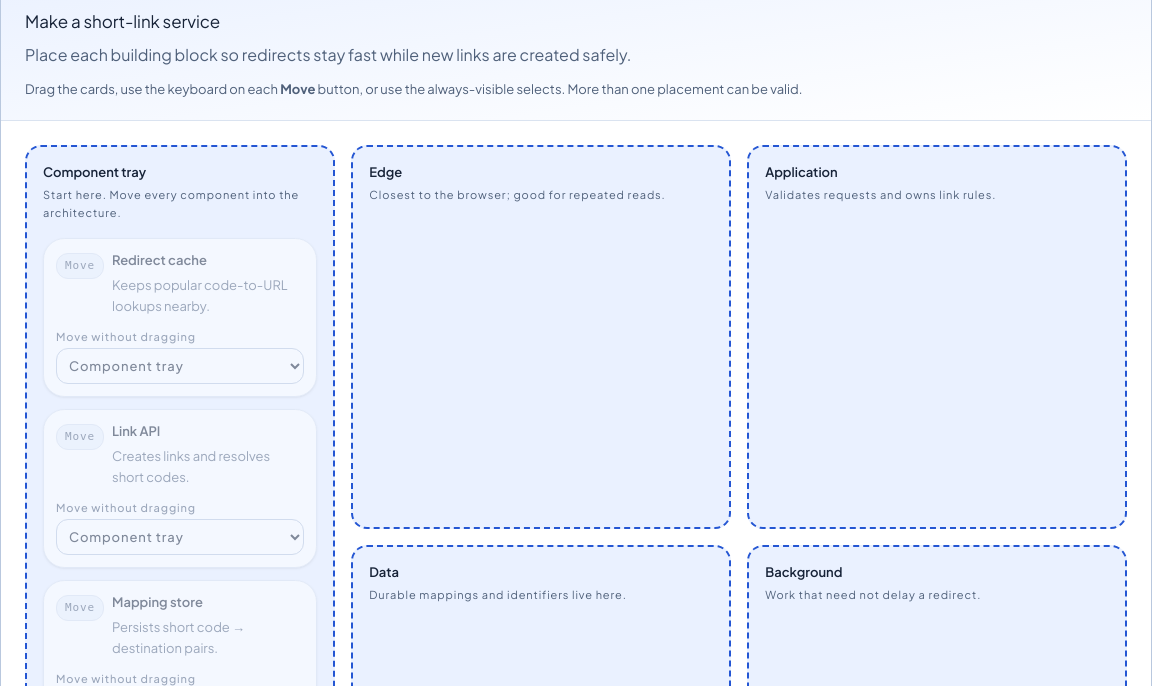
Scenario: ArchitectureLab › can be completed without dragging and accepts an alternate valid placement
Select "Application" in the dropdown named "move redirect cache" at {"x": 180, "y": 366}, box x1=56 y1=348 x2=304 y2=384
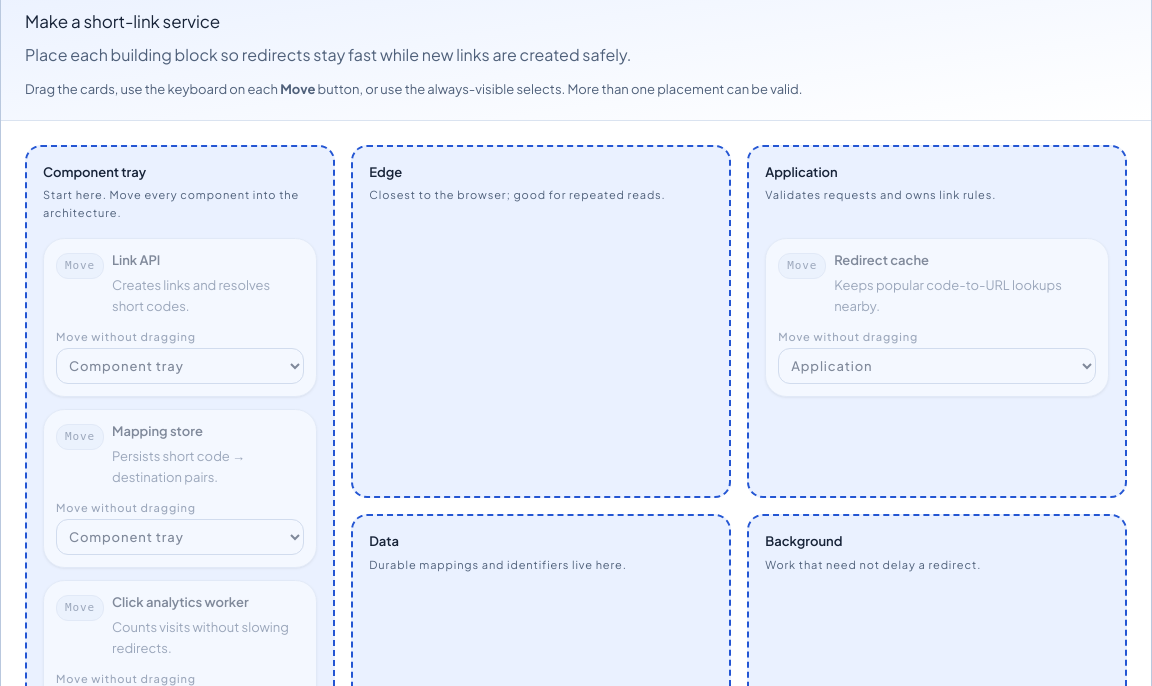
Select "Application" in the dropdown named "move link api" at {"x": 180, "y": 366}, box x1=56 y1=348 x2=304 y2=384
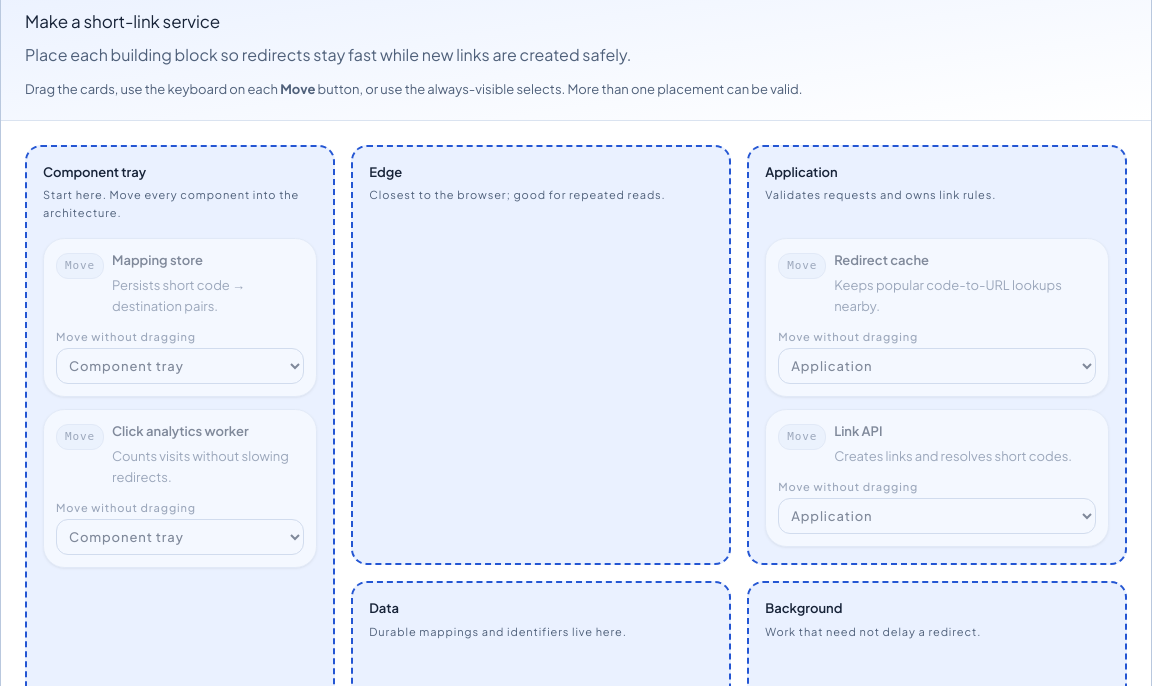
Select "Data" in the dropdown named "move mapping store" at {"x": 180, "y": 366}, box x1=56 y1=348 x2=304 y2=384
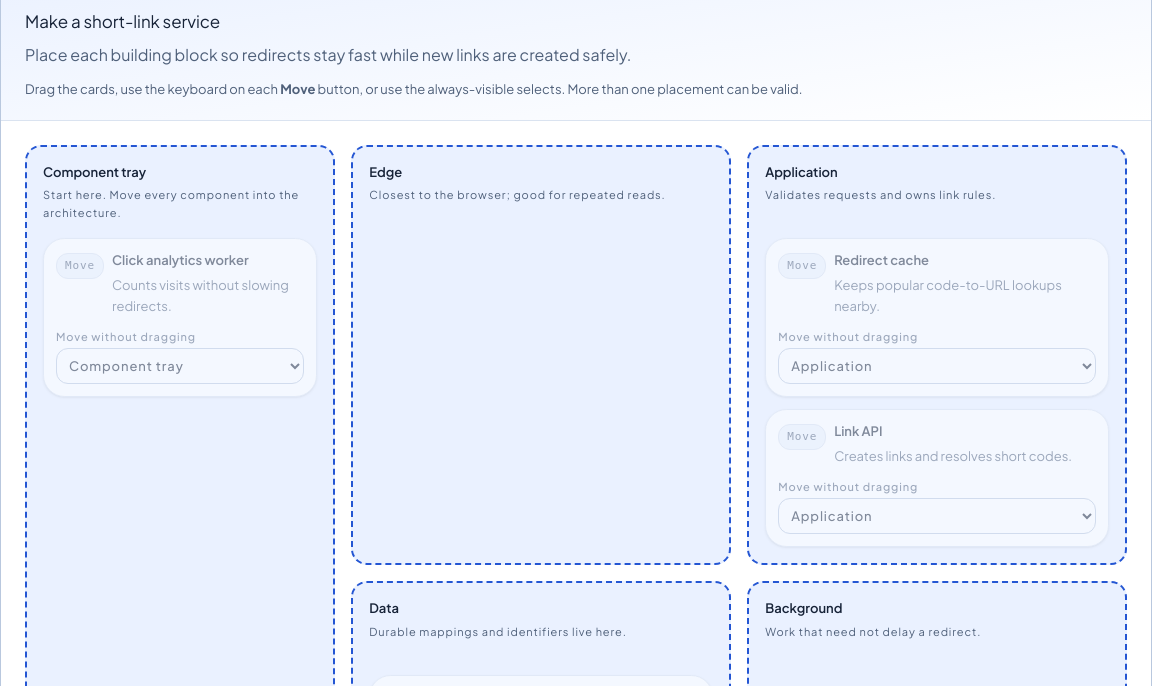
Select "Background" in the dropdown named "move click analytics worker" at {"x": 180, "y": 366}, box x1=56 y1=348 x2=304 y2=384
(page scrolled)
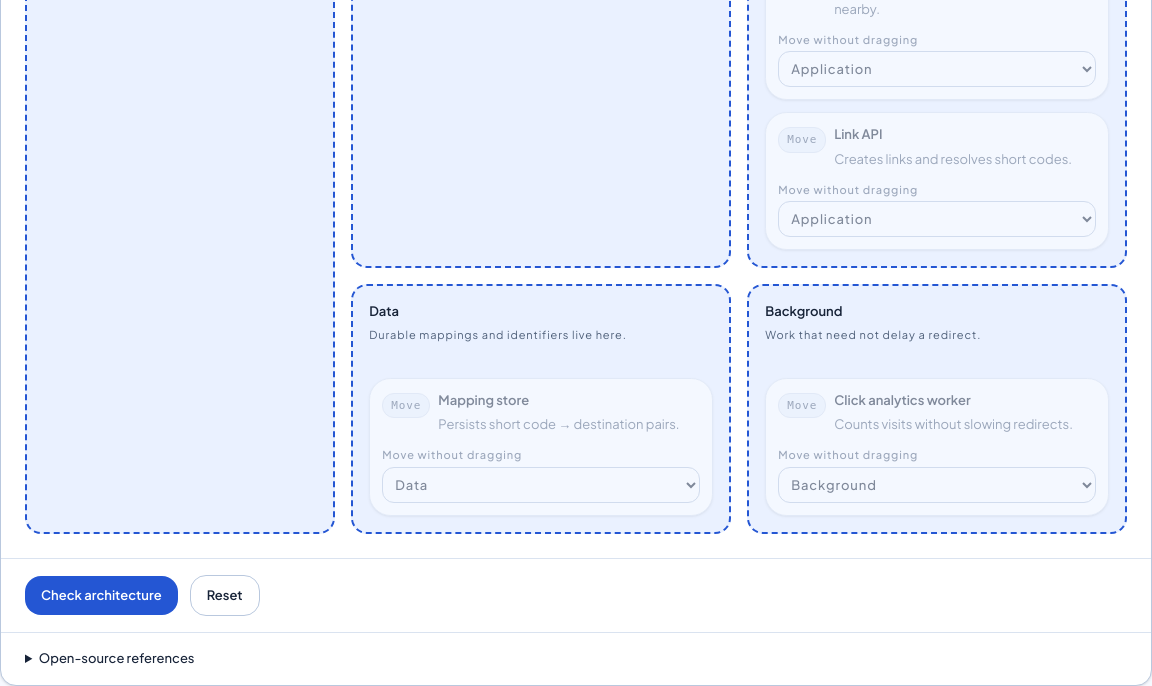
Click the button "Check architecture" at {"x": 101, "y": 596}, box x1=25 y1=576 x2=178 y2=615
(page scrolled)
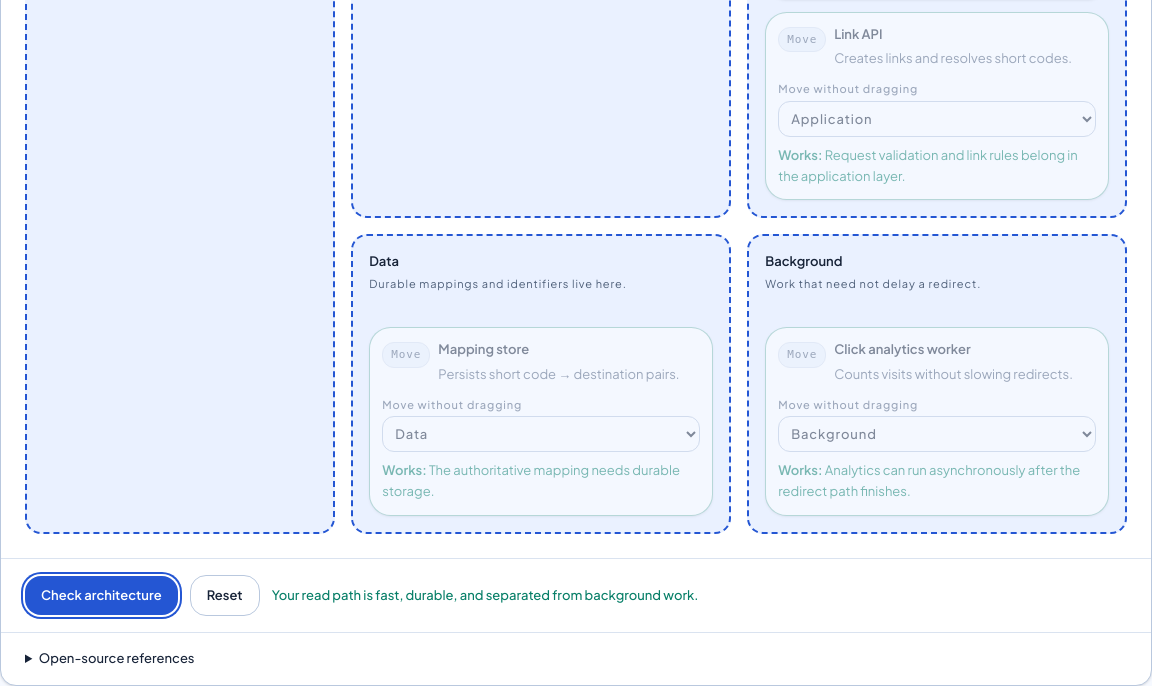
Expected: the text "Your read path is fast, durable, and separated from background work." is shown, x1=272 y1=586 x2=698 y2=605
Expected: the text "Works:" is shown 4 times
